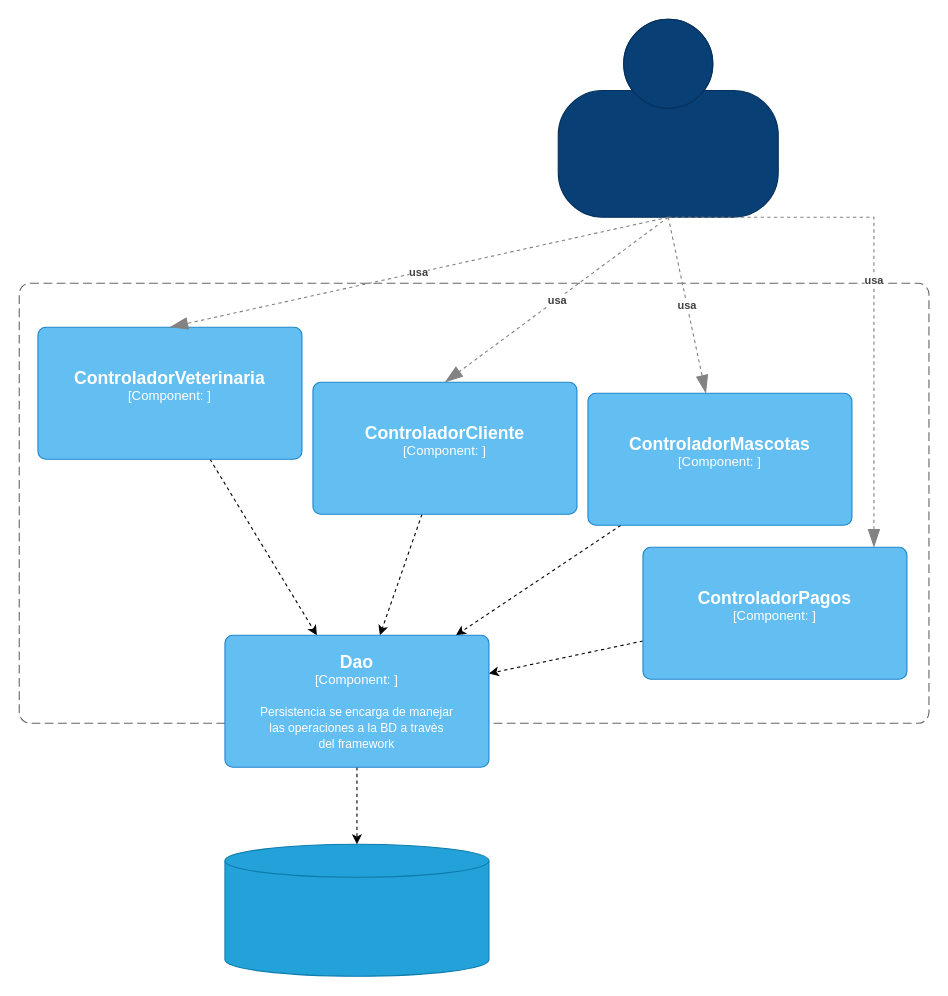
This 948x996 diagram has some shape labels left out. The box of each missing label's shape, as (x1, y1, x2, y2) in pixels:
Aplicacion web [Container]: (18, 282, 929, 723)
Base de Datos [Container : Maria DB] Store mascotas, clientes: (224, 843, 489, 976)
Empleado [Person] Utiliza el sistema: (557, 18, 778, 217)
